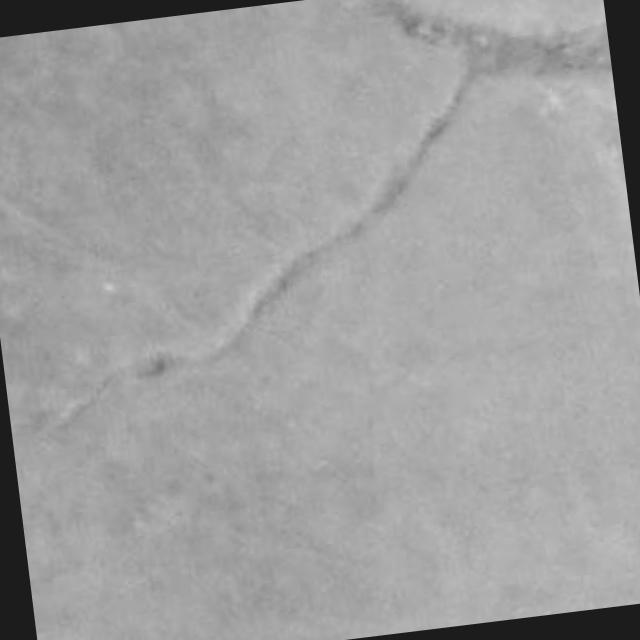crack: (44, 71, 475, 436), (197, 72, 474, 363), (368, 0, 611, 76)
